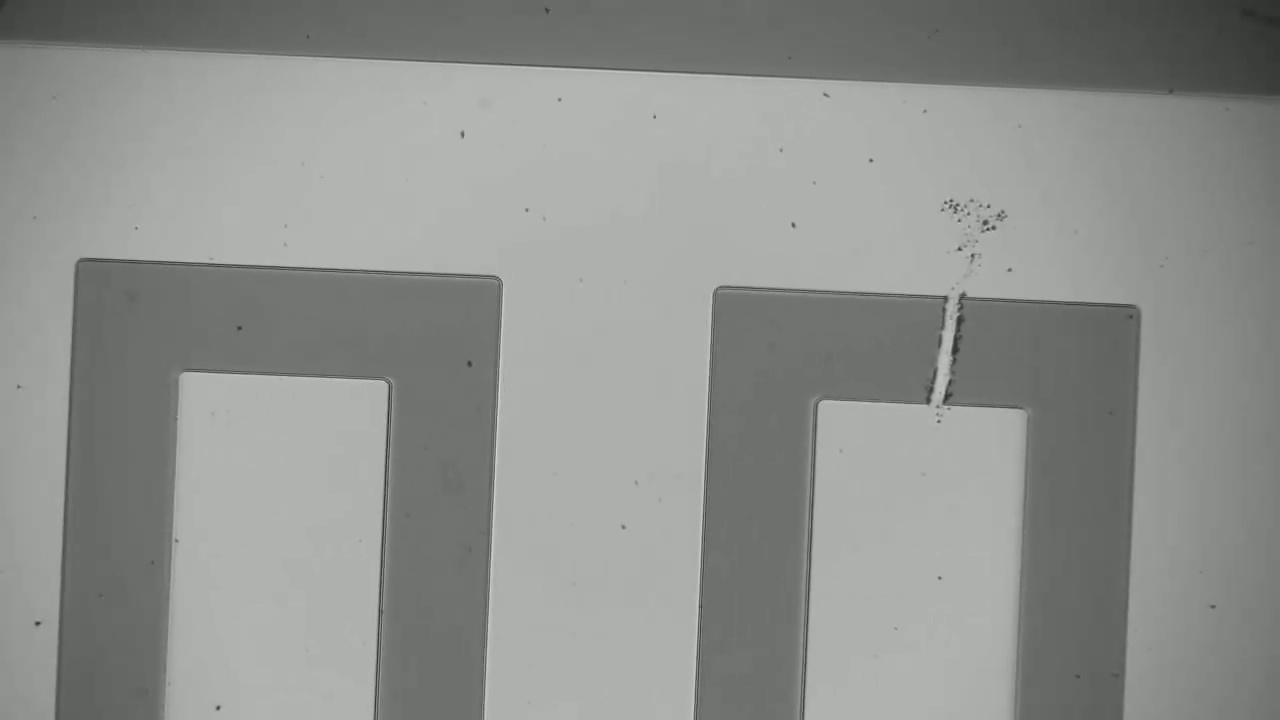Short_circuit: (903, 277, 987, 420)
